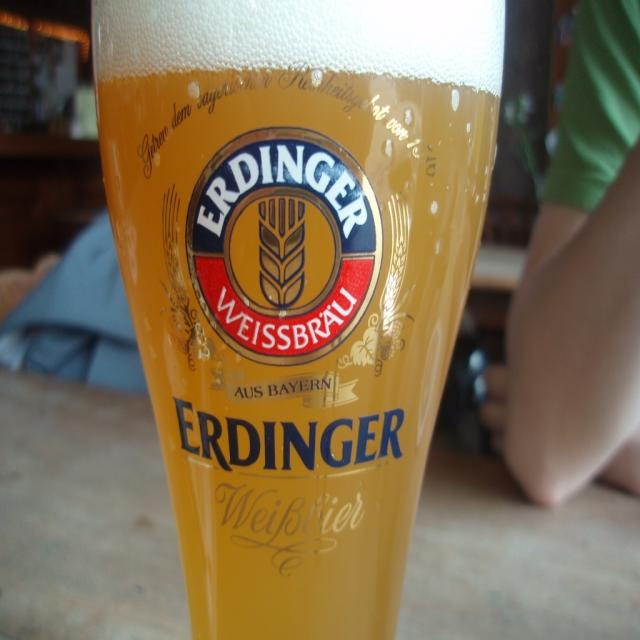erdinger: (137, 67, 442, 490)
